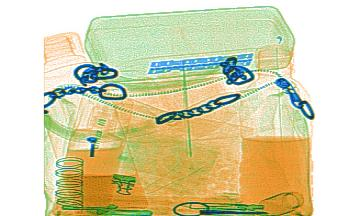plasticBottleWithaNozzle: (53, 83, 130, 213)
